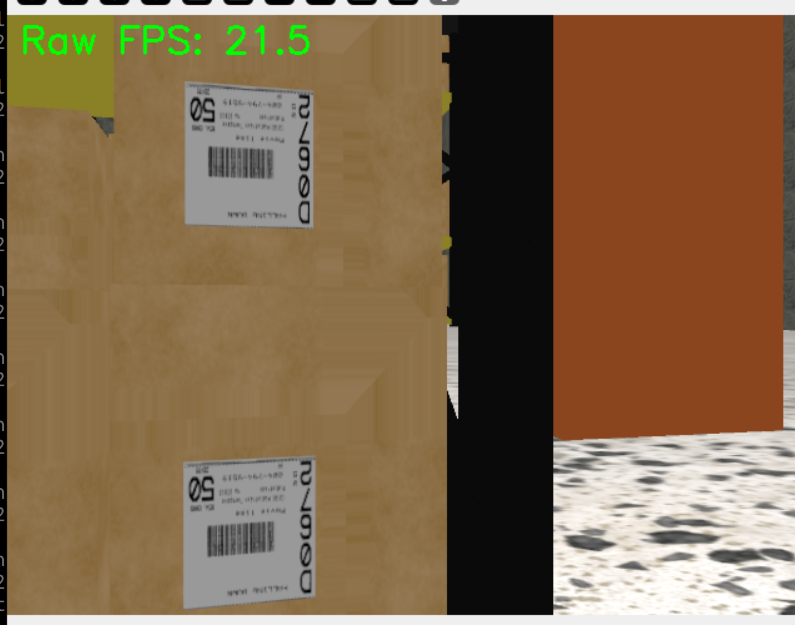barcode: (181, 455, 319, 610), (184, 80, 317, 230)
